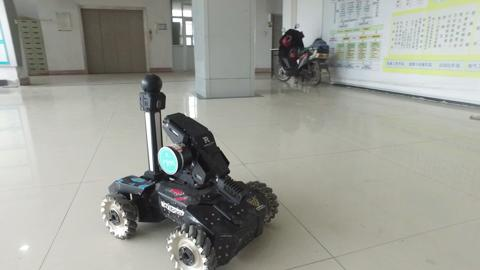chariot: (84, 72, 286, 270)
